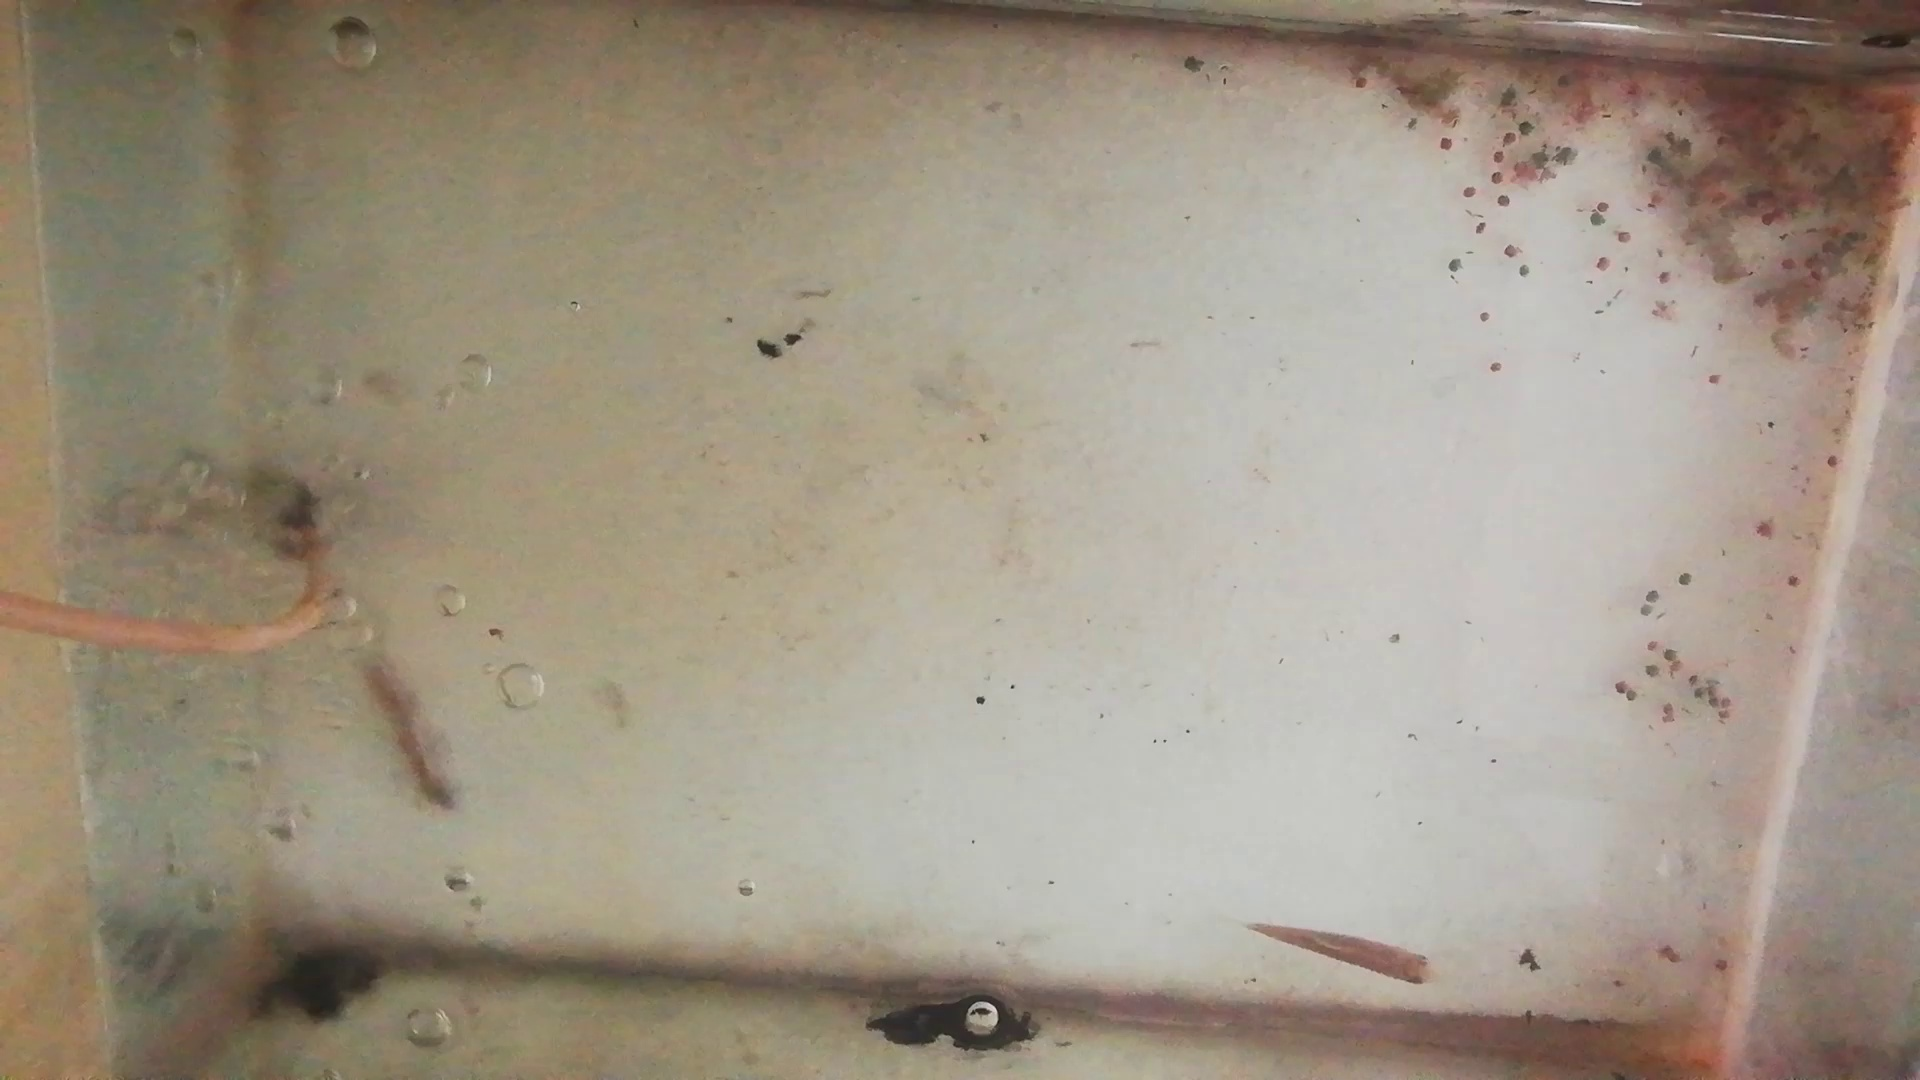fish: (355, 640, 467, 819), (1251, 920, 1443, 986)
